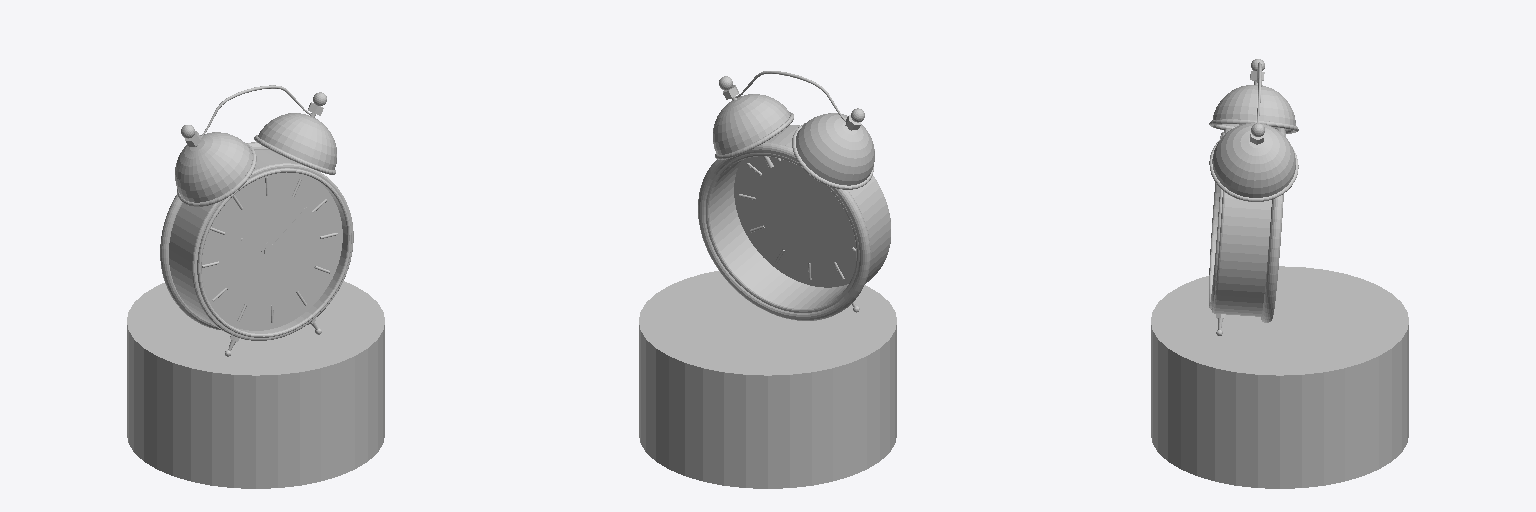
File: clock.obj
3 renders of one model, left to right at view 1: azimuth 30°, elevation 25°; view 2: azimuth 150°, elevation 25°; view 3: azimuth 270°, elevation 25°, orthographic.
Visible parts, largest first — view 1: 地台, 圆盘, 球体_1, 管道, 管道.1, 圆环_1, 圆环; view 2: 地台, 圆盘, 球体_1, 管道, 圆环_1, 管道.1, 圆环; view 3: 地台, 球体_1, 管道, 圆环_1, 圆环, 管道.1.
Boxes of the visible parts, x1=… form: 地台: x1=127, y1=281, x2=384, y2=488; 圆盘: x1=202, y1=172, x2=342, y2=330; 球体_1: x1=175, y1=113, x2=336, y2=202; 管道: x1=169, y1=150, x2=353, y2=340; 管道.1: x1=197, y1=168, x2=351, y2=337; 圆环_1: x1=160, y1=142, x2=268, y2=330; 圆环: x1=177, y1=135, x2=335, y2=206; 地台: x1=639, y1=271, x2=896, y2=488; 圆盘: x1=734, y1=156, x2=855, y2=287; 球体_1: x1=713, y1=94, x2=874, y2=185; 管道: x1=706, y1=125, x2=890, y2=312; 圆环_1: x1=698, y1=142, x2=870, y2=320; 管道.1: x1=712, y1=163, x2=848, y2=306; 圆环: x1=715, y1=112, x2=873, y2=189; 地台: x1=1151, y1=266, x2=1408, y2=488; 球体_1: x1=1212, y1=85, x2=1295, y2=197; 管道: x1=1211, y1=128, x2=1271, y2=316; 圆环_1: x1=1261, y1=127, x2=1285, y2=322; 圆环: x1=1209, y1=119, x2=1298, y2=201; 管道.1: x1=1209, y1=132, x2=1224, y2=308.
Bounding box in the file's own units: 306 × 466 × 306.